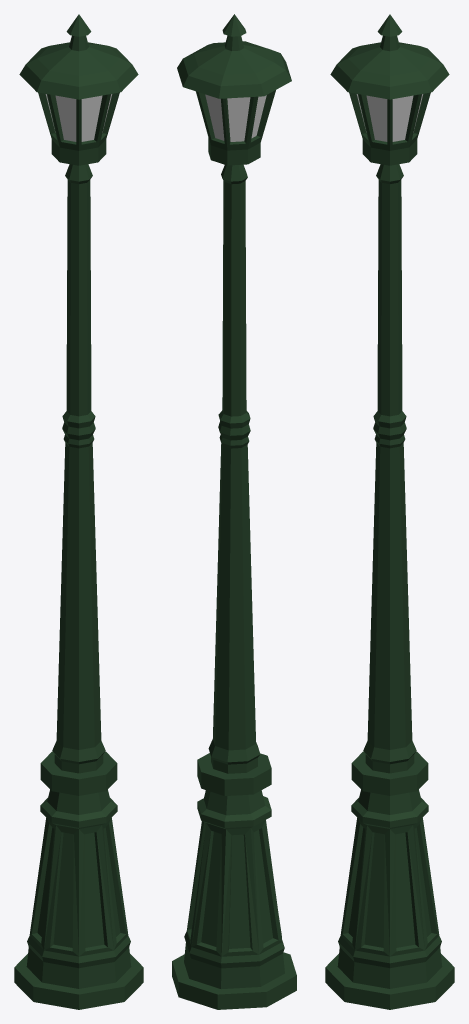
The model's file is street_lamp_single.fbx.
The picture shows the model from 3 angles, left to right: view 1: azimuth 90°, elevation 25°; view 2: azimuth 210°, elevation 25°; view 3: azimuth 270°, elevation 25°; orthographic projection.
Parts seen in each view (by area): view 1: street_lamp_single_LOD0; view 2: street_lamp_single_LOD0; view 3: street_lamp_single_LOD0.
Boxes of the visible parts, left/top/right/bottom form: street_lamp_single_LOD0: left=14, top=14, right=143, bottom=1009; street_lamp_single_LOD0: left=172, top=14, right=296, bottom=1009; street_lamp_single_LOD0: left=325, top=14, right=454, bottom=1009.
Size of what is drawn, in the model's own units: 0.5315 by 4.4 by 0.5315.
